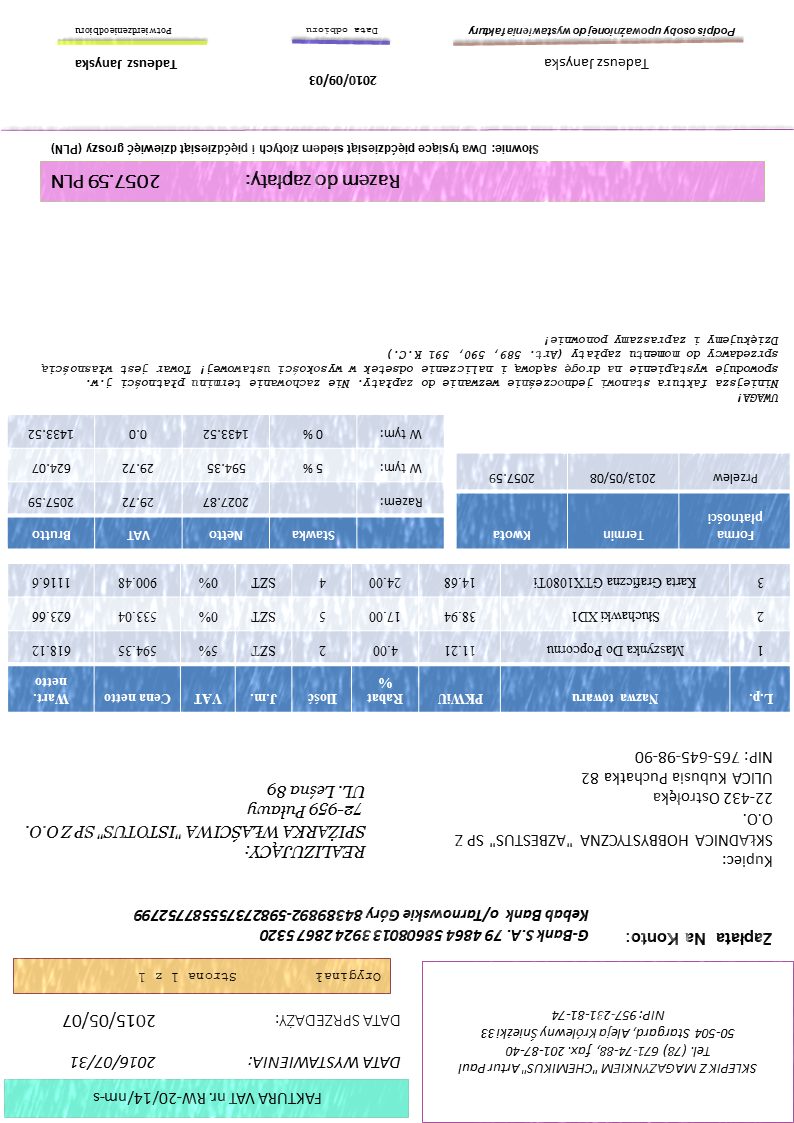Table: (6, 562, 792, 714), (7, 413, 446, 551), (455, 451, 792, 551)
TextBox: (36, 332, 781, 408), (452, 749, 777, 872), (22, 779, 371, 863), (455, 1005, 763, 1082), (131, 905, 593, 947), (49, 139, 543, 160), (47, 170, 404, 197), (91, 1086, 326, 1113), (465, 23, 740, 44), (134, 966, 384, 988), (246, 1053, 404, 1075), (273, 1009, 404, 1034), (625, 929, 775, 950), (59, 1009, 160, 1033), (71, 54, 179, 76), (542, 55, 652, 75), (69, 1053, 160, 1074), (73, 23, 174, 38), (307, 72, 380, 92), (304, 23, 381, 39)
